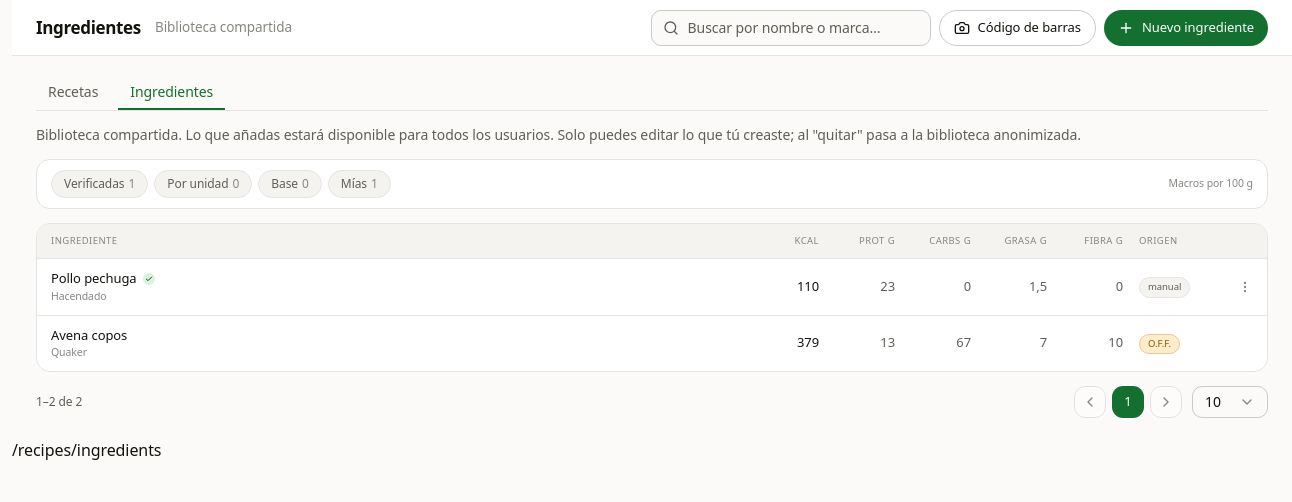
Test: IngredientesPage › shows the no-results empty state when the search matches nothing
This screenshot has width=1292, height=502.
Step 1. Type "zzz" into the field with placeholder "Buscar por nombre o marca…" → {"x": 791, "y": 28}, box [651, 10, 931, 46]
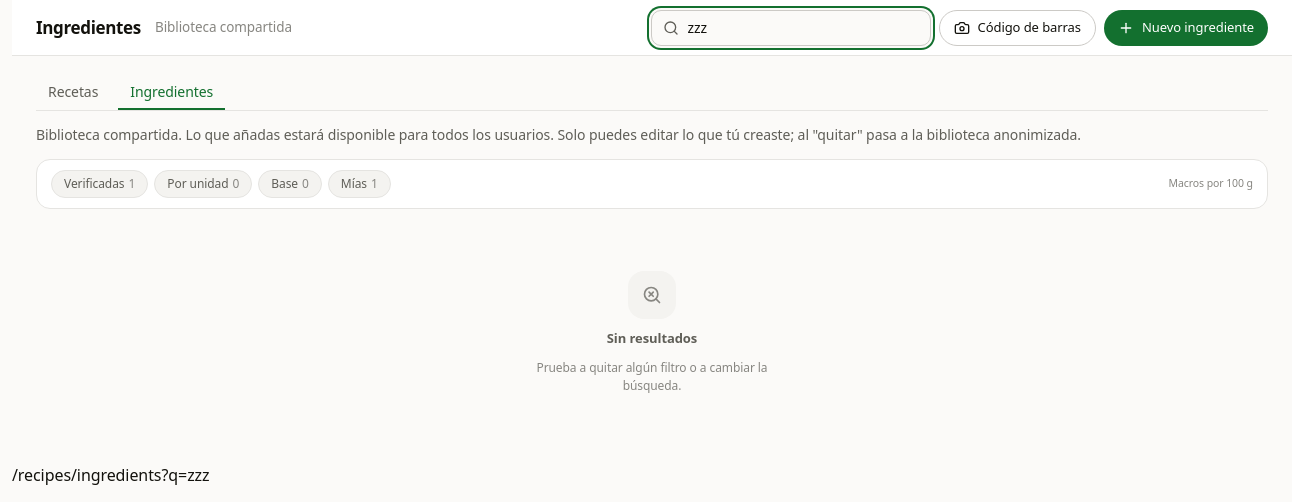
Expected: the text "Sin resultados" is shown, [607, 329, 697, 348]
Expected: the text "Pollo pechuga" is gone
